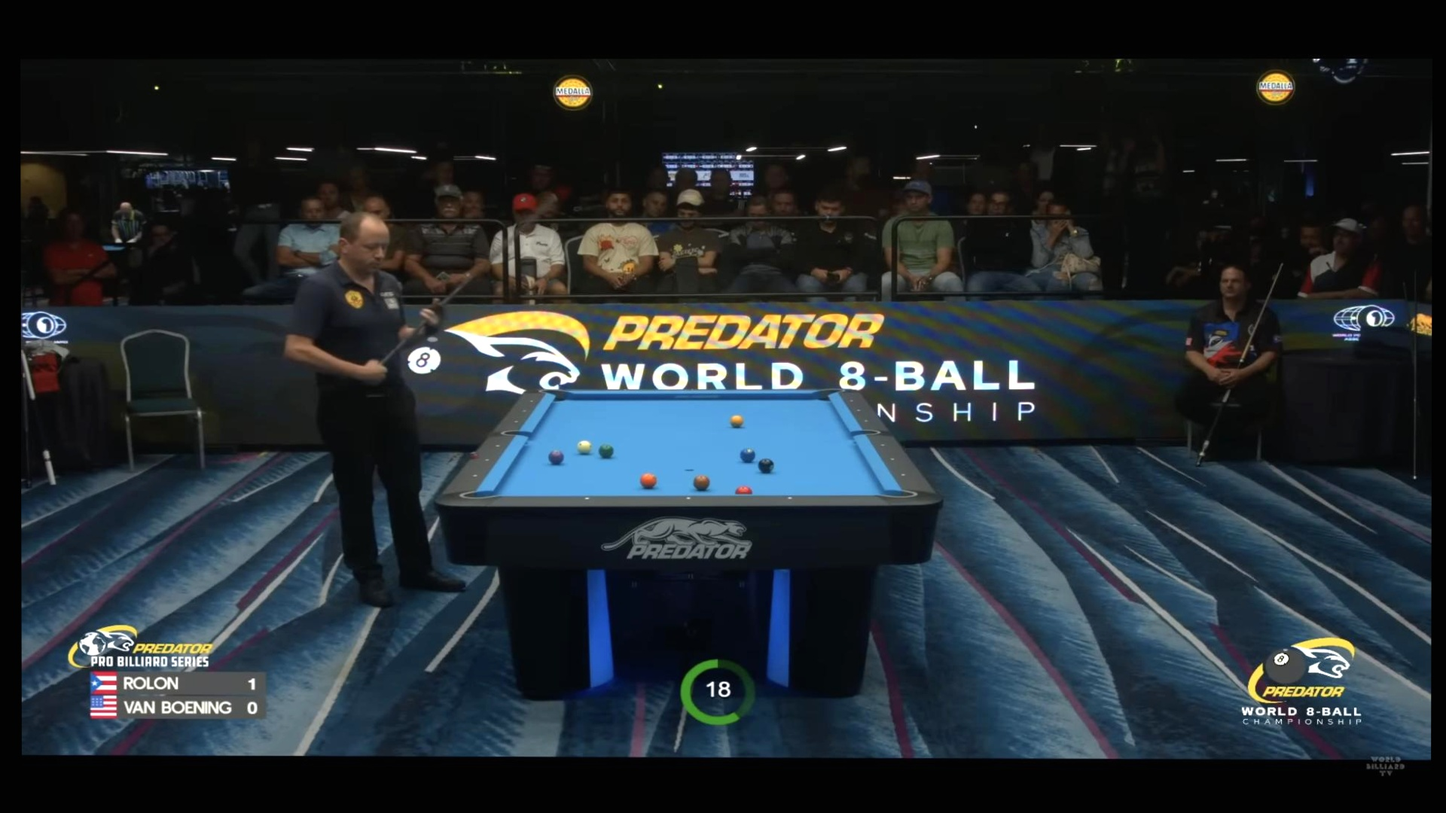Black: (758, 458, 774, 473)
Cue: (577, 440, 592, 455)
Solid: (889, 456, 896, 462), (879, 443, 886, 449), (855, 407, 862, 413), (472, 472, 479, 478), (863, 418, 869, 424), (849, 398, 855, 404), (484, 457, 490, 463), (521, 408, 527, 414), (495, 444, 501, 449), (513, 418, 519, 423), (528, 399, 534, 404), (622, 387, 628, 392), (585, 496, 590, 501), (686, 496, 691, 500), (788, 496, 793, 500), (901, 473, 906, 477), (691, 388, 694, 391)
Striped: (693, 475, 710, 491), (640, 473, 657, 488), (548, 450, 564, 465), (740, 448, 756, 462), (598, 444, 614, 458), (730, 415, 744, 427), (735, 485, 752, 494)
